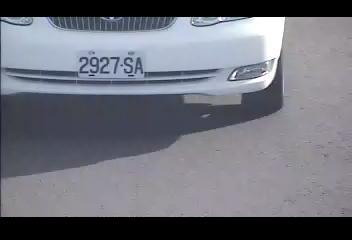plate: (74, 48, 146, 82)
